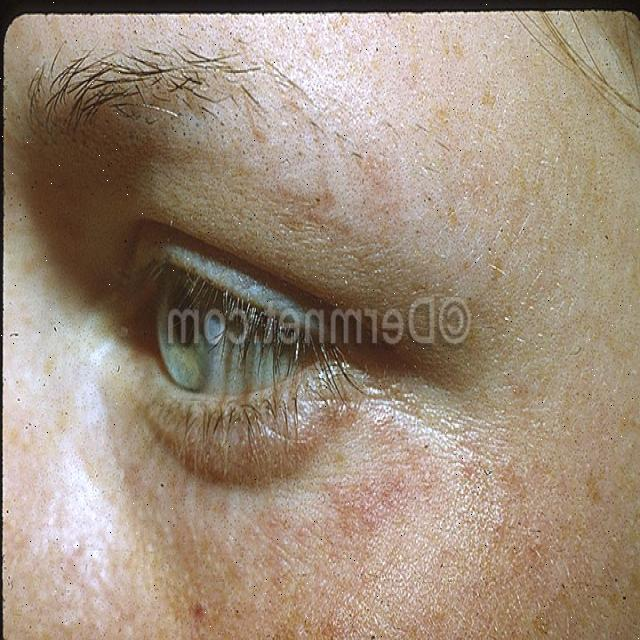images: (0, 7, 639, 639)
